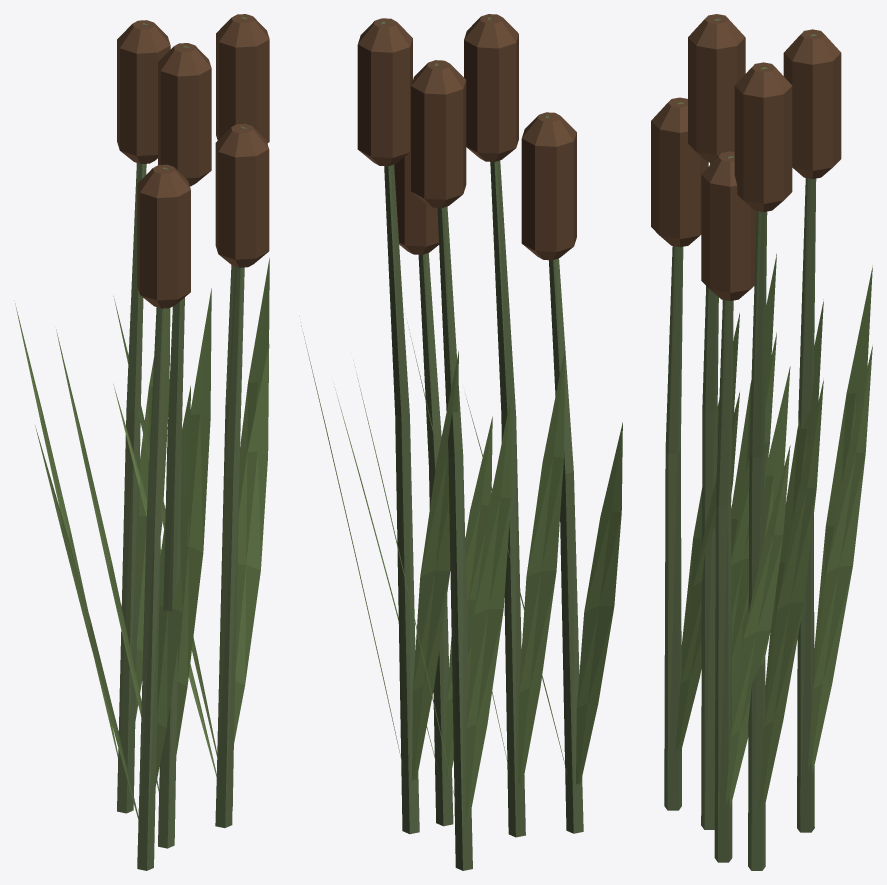
Rendered from cattail_a.glb.
3 renders of one model, left to right at view 1: azimuth 30°, elevation 25°; view 2: azimuth 150°, elevation 25°; view 3: azimuth 270°, elevation 25°, orthographic. The views are drawn at different scales.
Parts seen in each view (by area): view 1: geometry; view 2: geometry; view 3: geometry.
Part boxes in pixels (<box>): geometry: <box>15,14,269,870</box>; geometry: <box>301,14,622,870</box>; geometry: <box>651,14,872,870</box>.
Bounding box in the file's own units: 0.4931 × 1.35 × 0.3312.
